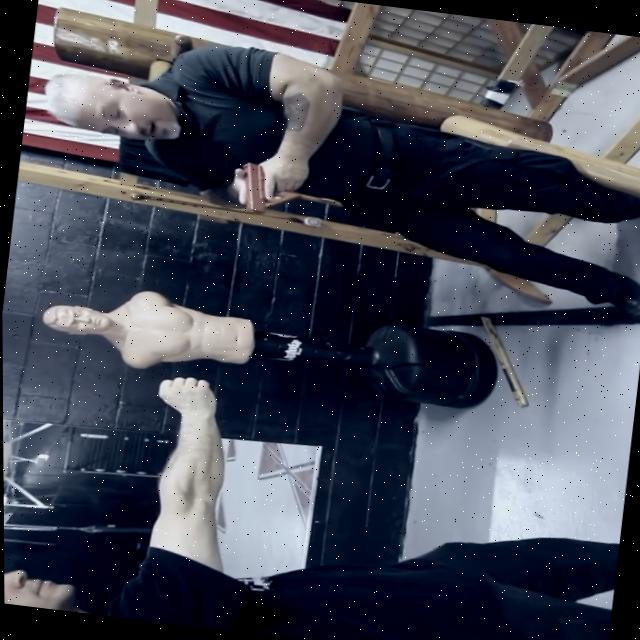pistol: (233, 160, 289, 218)
